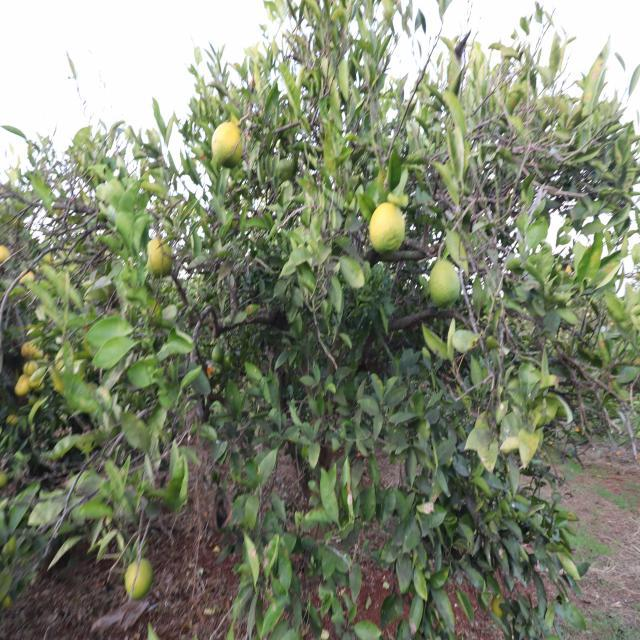Jeruk Belum Matang: (368, 203, 405, 256), (429, 260, 462, 307), (212, 122, 242, 168), (125, 558, 154, 600), (146, 238, 173, 277)
